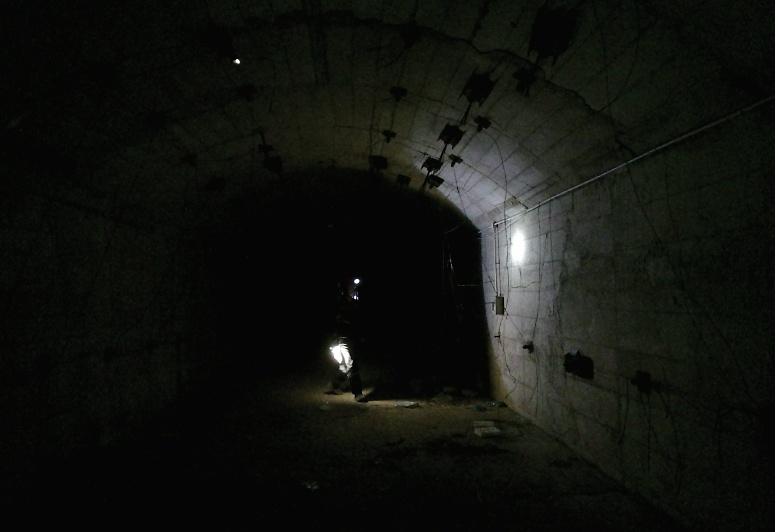person: (319, 280, 371, 405)
